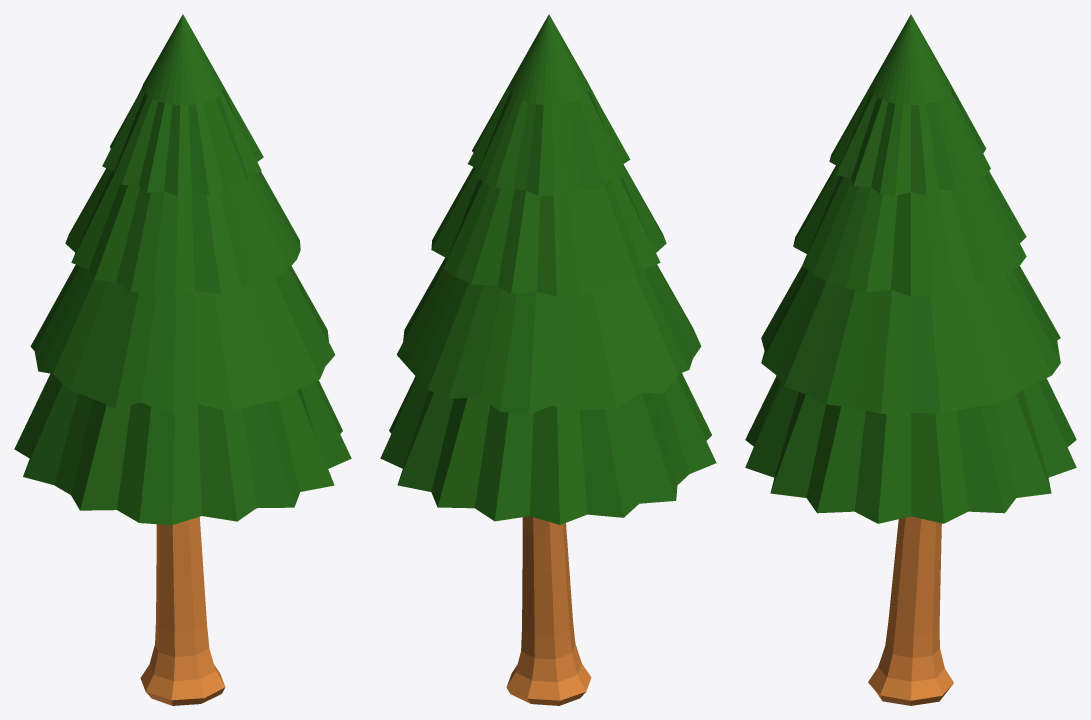
The model's file is tree5.fbx.
3 renders of one model, left to right at view 1: azimuth 30°, elevation 25°; view 2: azimuth 150°, elevation 25°; view 3: azimuth 270°, elevation 25°, orthographic.
Visible parts, largest first — view 1: Tree leaf, Tree trunk; view 2: Tree leaf, Tree trunk; view 3: Tree leaf, Tree trunk.
Boxes of the visible parts, x1,y1,x2,y2 form: Tree leaf: (14, 14, 351, 525); Tree trunk: (140, 517, 225, 705); Tree leaf: (380, 14, 716, 524); Tree trunk: (506, 516, 591, 705); Tree leaf: (745, 14, 1076, 523); Tree trunk: (868, 516, 953, 705).
Bounding box in the file's own units: 407 × 919 × 407.
